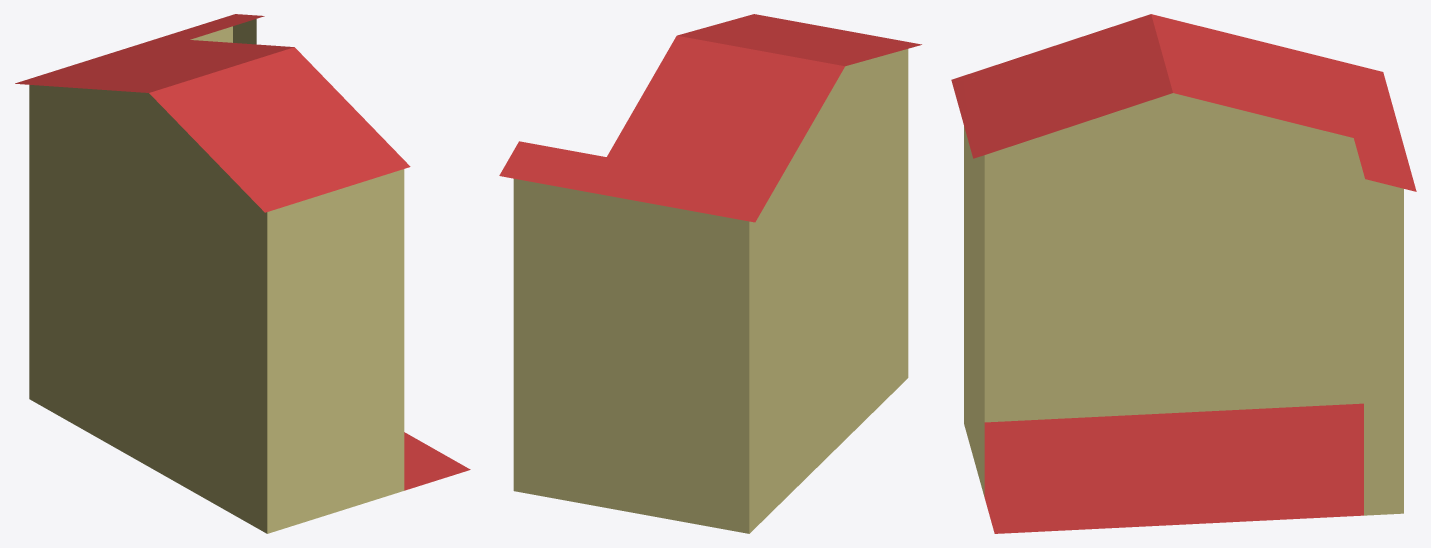
The picture shows the model from 3 angles, left to right: view 1: azimuth 30°, elevation 25°; view 2: azimuth 150°, elevation 25°; view 3: azimuth 270°, elevation 25°; orthographic projection. The views are drawn at different scales.
Bounding box in the file's own units: 7.08 × 10.23 × 9.59.
